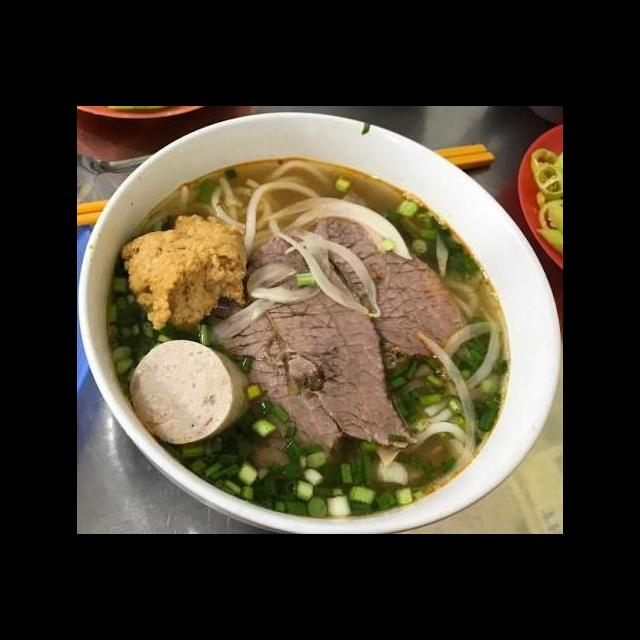bun: (205, 153, 344, 260), (403, 388, 480, 468)
bun bo: (117, 154, 525, 500)
thit bo: (235, 226, 421, 451), (193, 275, 347, 481), (304, 184, 476, 366)
